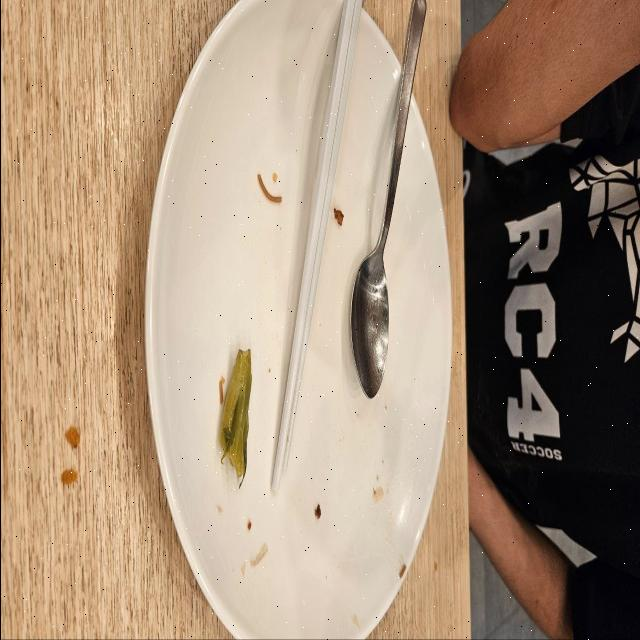Green veg: (218, 349, 250, 486)
